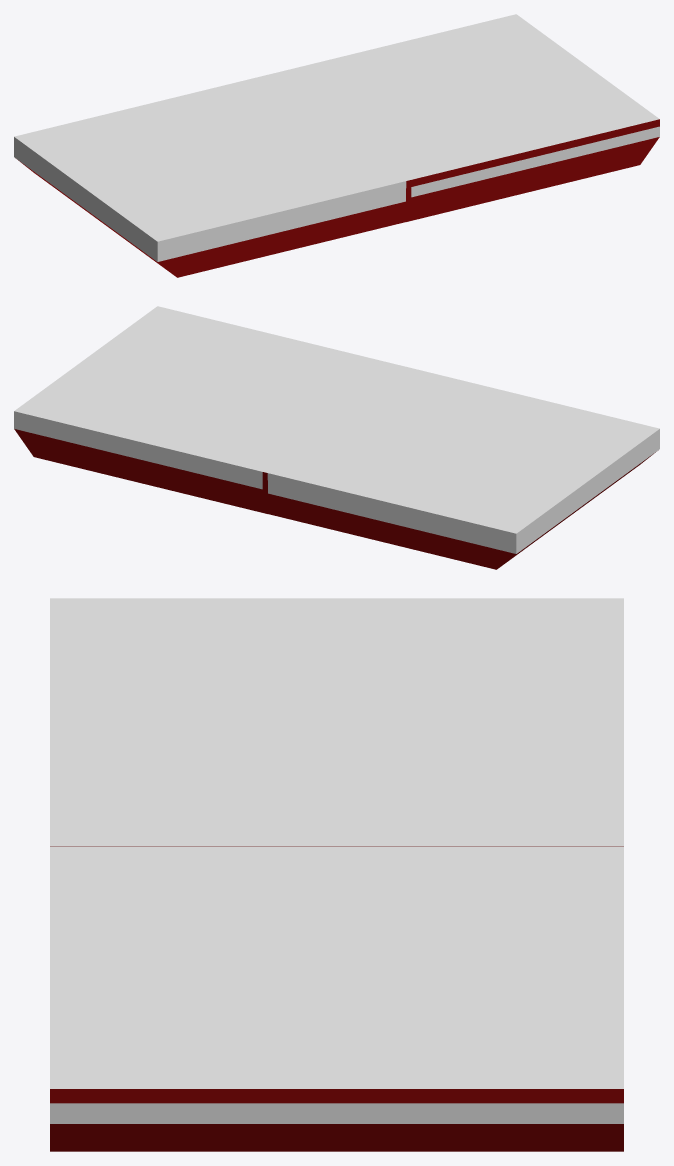
File: book_open.glb
3 renders of one model, top to bottom at view 1: azimuth 30°, elevation 25°; view 2: azimuth 150°, elevation 25°; view 3: azimuth 270°, elevation 25°, orthographic. The views are drawn at different scales.
Parts seen in each view (by area): view 1: Cube.001; view 2: Cube.001; view 3: Cube.001.
Boxes of the visible parts, x1=… form: Cube.001: x1=14, y1=14, x2=659, y2=277; Cube.001: x1=14, y1=306, x2=659, y2=569; Cube.001: x1=50, y1=598, x2=623, y2=1151.
Bounding box in the file's own units: 0.101 × 0.00789 × 0.05.
